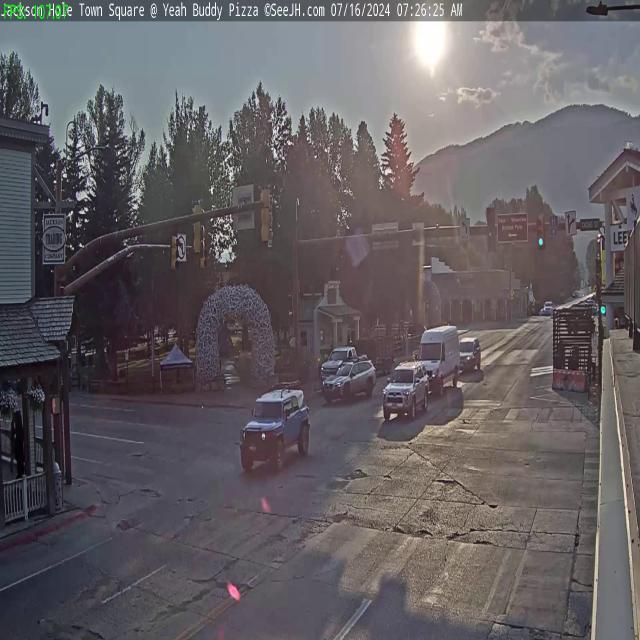suv: (240, 384, 312, 474), (382, 361, 429, 422), (323, 359, 377, 402), (457, 335, 483, 373)
traffic light: (260, 185, 273, 244), (190, 200, 203, 256), (486, 207, 496, 252), (171, 232, 179, 273), (537, 214, 545, 248)
van: (414, 323, 458, 394)
